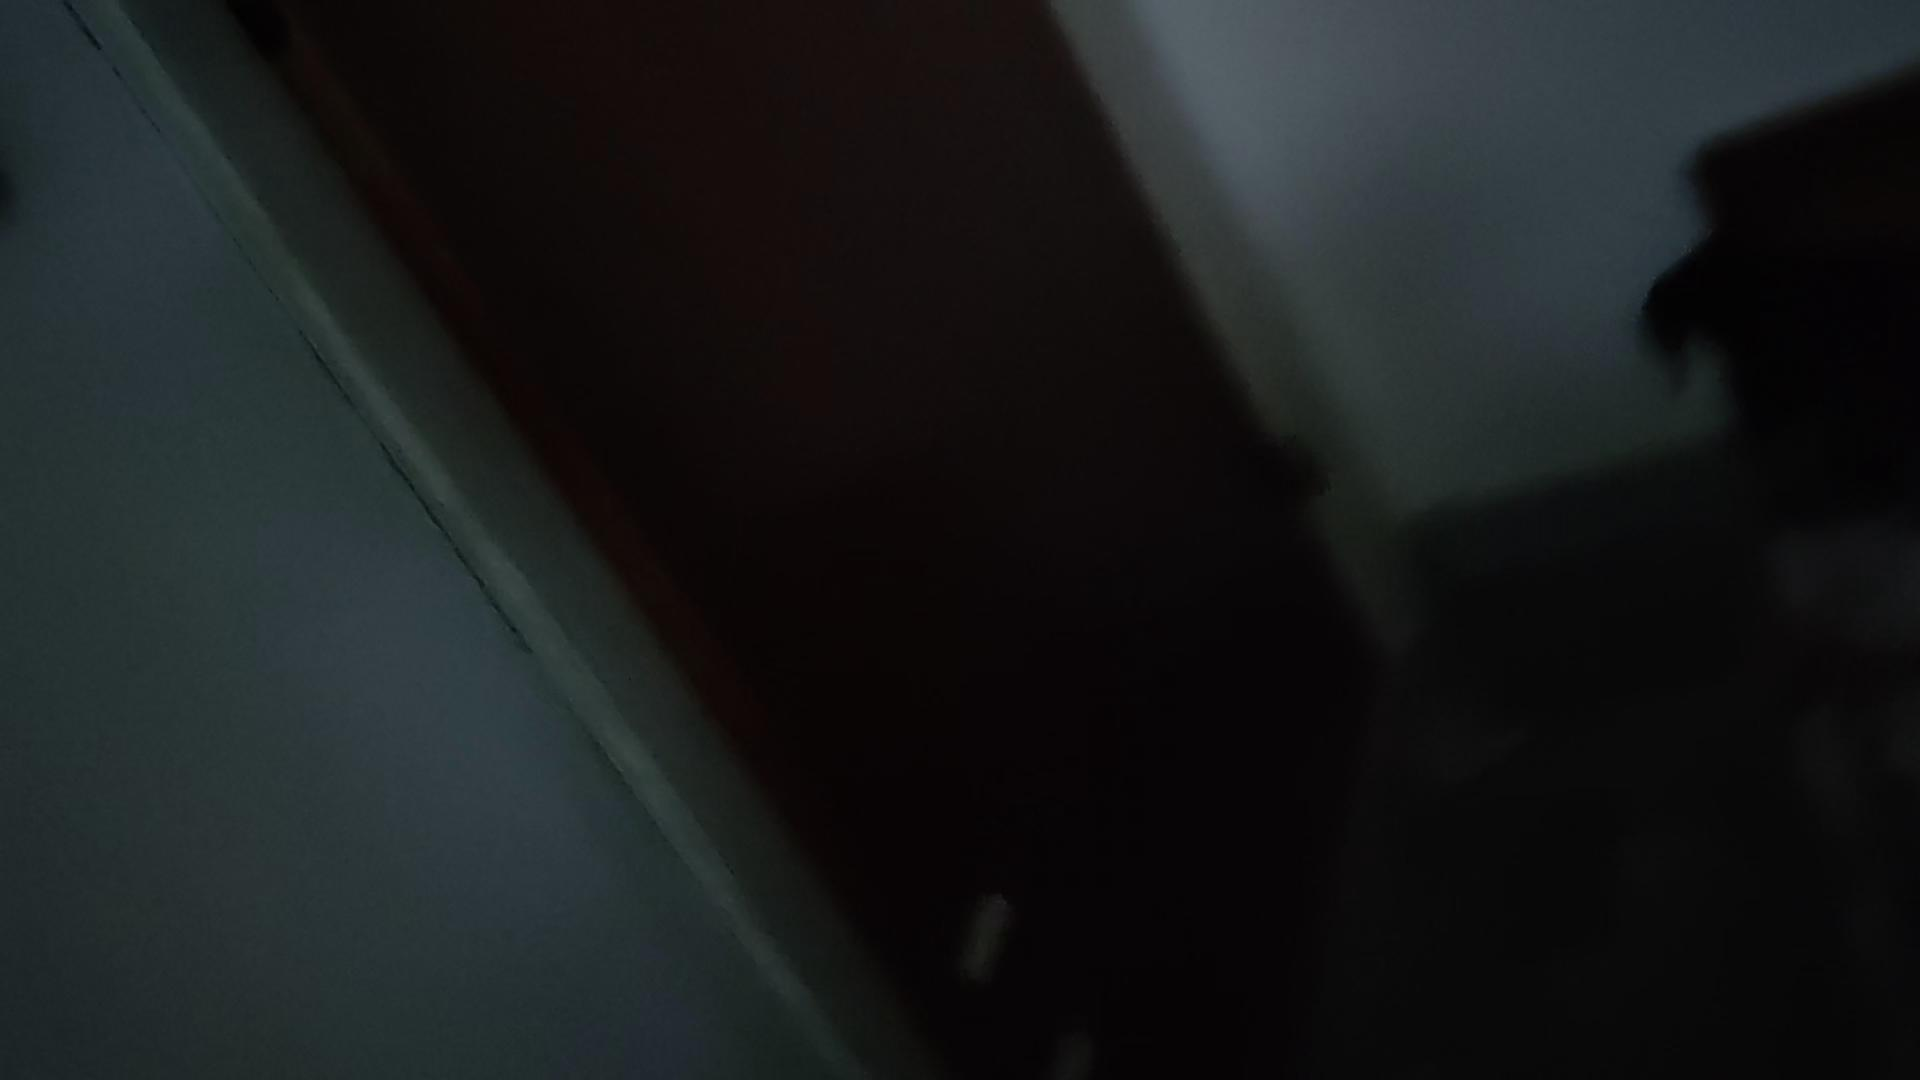Dog: (1629, 142, 1919, 924)
